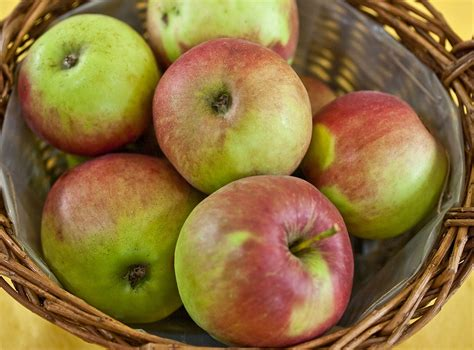apple: (167, 166, 361, 347)
